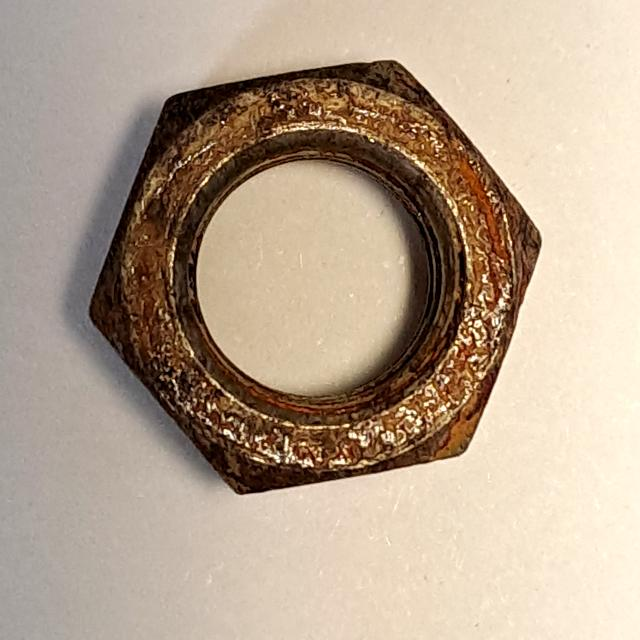Rust: (74, 44, 552, 511)
